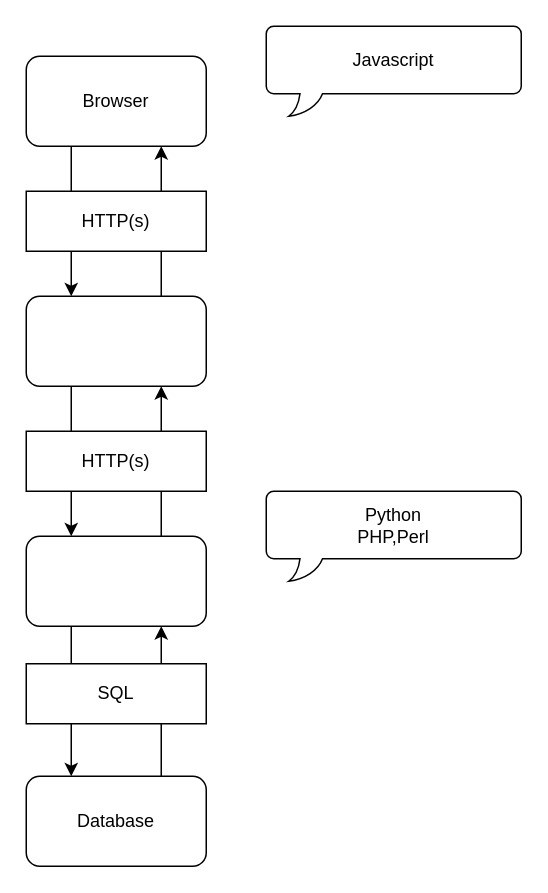
Some shapes in this 548 by 893 pixel diagram are drawn without their labels. The centre of each missing label's shape, as x and y in pixels:
"App Servert" goes at (115,580).
"Web Server" goes at (115,340).
